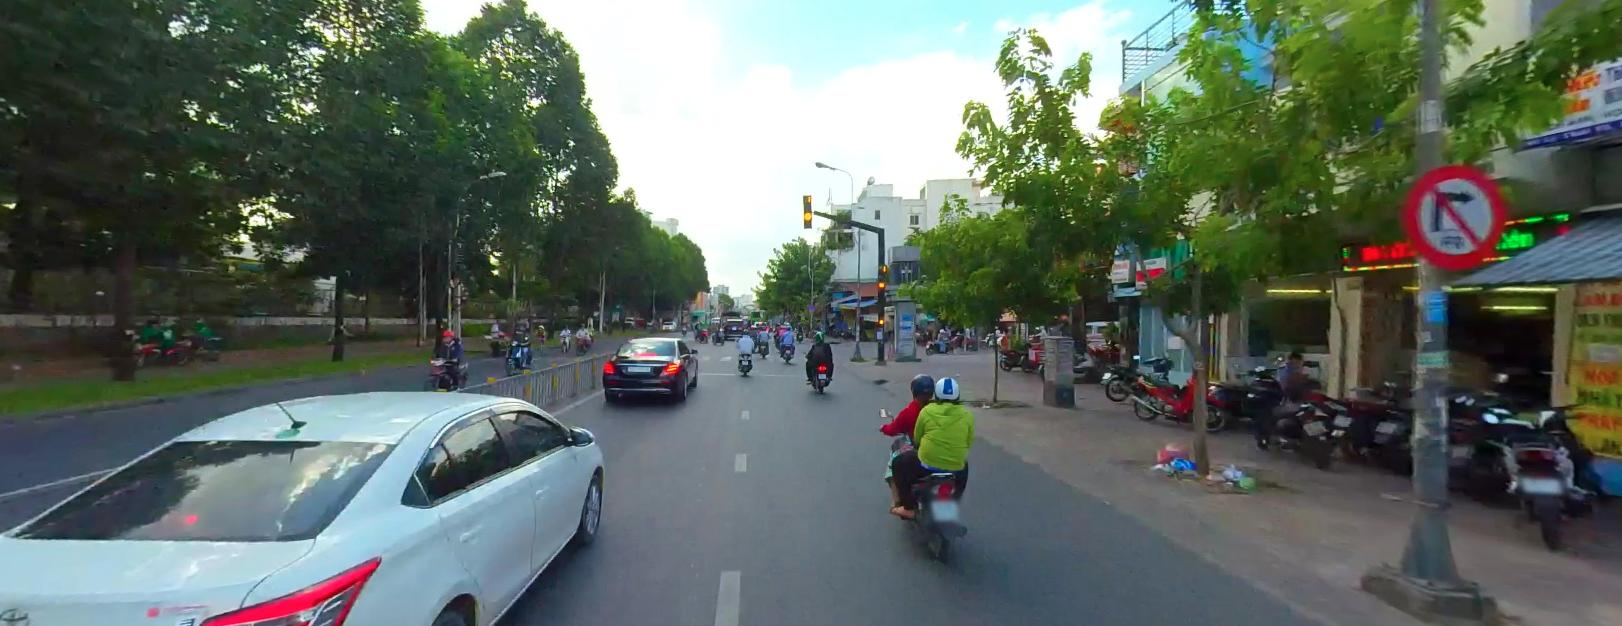Cam re: (1405, 163, 1507, 271), (1406, 163, 1506, 267)
